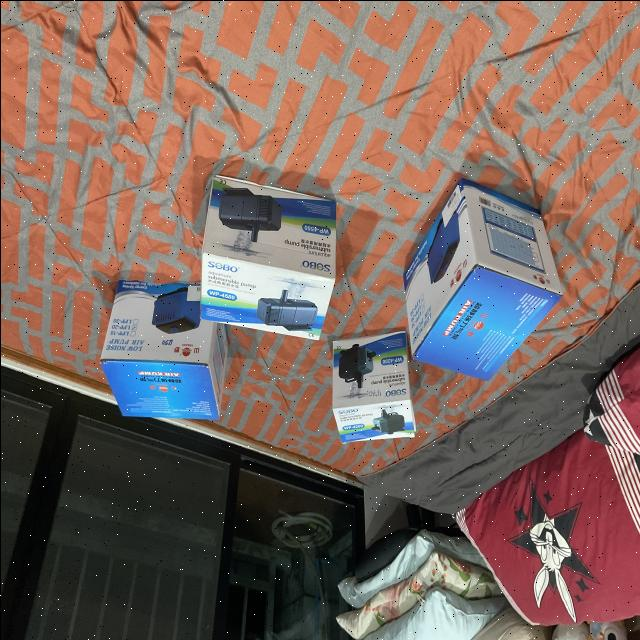SOBO_WP_4200: (197, 156, 341, 350), (316, 327, 412, 456)
YAMANO_LPP_20: (406, 168, 562, 387), (80, 275, 234, 439)
